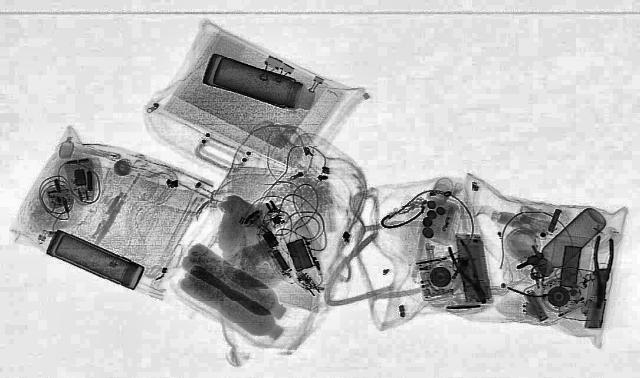Pliers: (442, 240, 496, 304), (586, 236, 614, 308)
